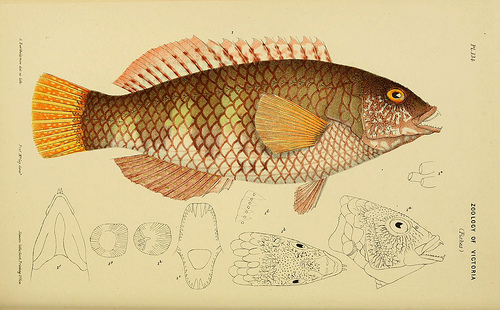fish: (31, 35, 443, 215)
